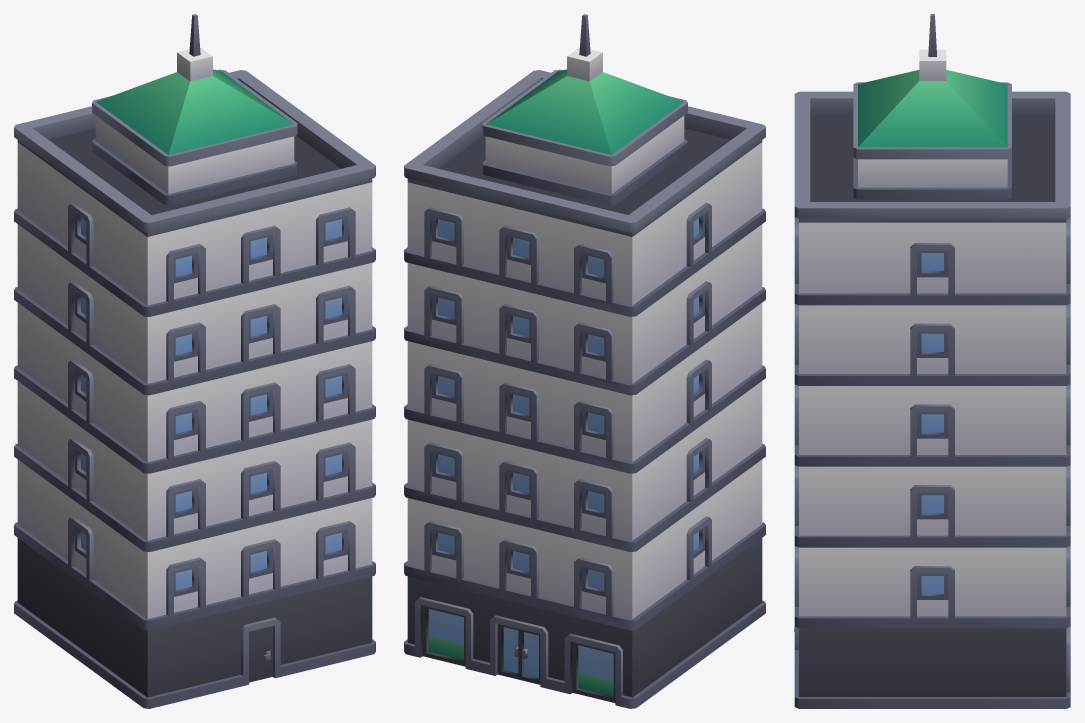
3 renders of one model, left to right at view 1: azimuth 30°, elevation 25°; view 2: azimuth 150°, elevation 25°; view 3: azimuth 270°, elevation 25°, orthographic. The views are drawn at different scales.
Parts seen in each view (by area): view 1: building-m; view 2: building-m; view 3: building-m.
Boxes of the visible parts, box(x1,y1,x2,y2) form: building-m: box(14, 14, 375, 708); building-m: box(404, 14, 765, 708); building-m: box(794, 14, 1070, 708).
Bounding box in the file's own units: 11.51 × 29.23 × 11.53.
Materials: 1 (1 with a texture image).
